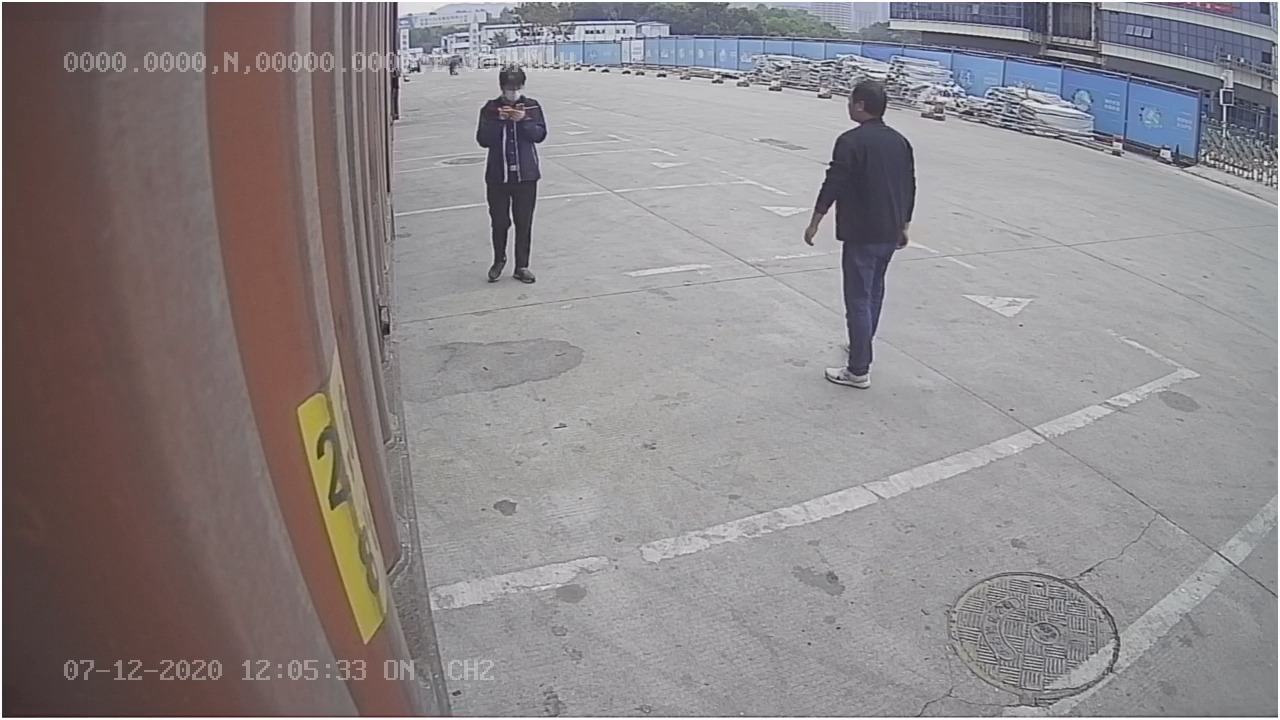person: (803, 79, 927, 395)
